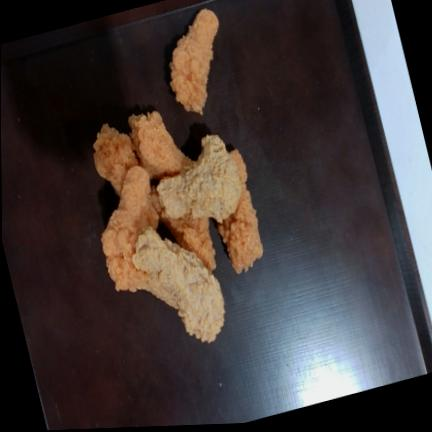chicken: (133, 227, 224, 341), (157, 135, 241, 222), (102, 166, 158, 291), (218, 149, 263, 273), (170, 9, 219, 114), (129, 111, 192, 179), (93, 123, 139, 195)
